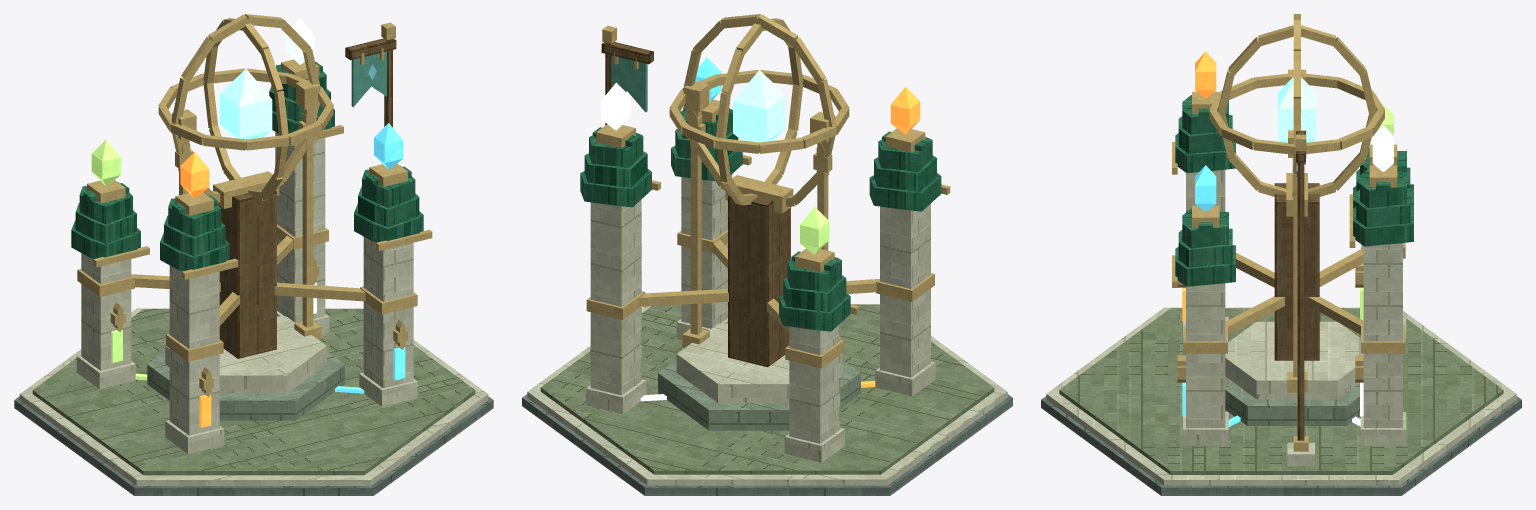
File: elf_elemental_ritual_hex_v1.glb
The picture shows the model from 3 angles, left to right: view 1: azimuth 30°, elevation 25°; view 2: azimuth 150°, elevation 25°; view 3: azimuth 270°, elevation 25°; orthographic projection. The views are drawn at different scales.
Parts seen in each view (by area): view 1: Elf_Elemental_Ritual_Hex_V1_Focus, Elf_Elemental_Ritual_Hex_V1_Foundation, Elf_Elemental_Ritual_Hex_V1_Hall, Elf_Elemental_Ritual_Hex_V1_Roofs, Elf_Elemental_Ritual_Hex_V1_Courtyard, Elf_Elemental_Ritual_Hex_V1_Faction, Elf_Elemental_Ritual_Hex_V1_Details; view 2: Elf_Elemental_Ritual_Hex_V1_Focus, Elf_Elemental_Ritual_Hex_V1_Foundation, Elf_Elemental_Ritual_Hex_V1_Hall, Elf_Elemental_Ritual_Hex_V1_Roofs, Elf_Elemental_Ritual_Hex_V1_Courtyard, Elf_Elemental_Ritual_Hex_V1_Faction; view 3: Elf_Elemental_Ritual_Hex_V1_Foundation, Elf_Elemental_Ritual_Hex_V1_Focus, Elf_Elemental_Ritual_Hex_V1_Hall, Elf_Elemental_Ritual_Hex_V1_Roofs, Elf_Elemental_Ritual_Hex_V1_Courtyard, Elf_Elemental_Ritual_Hex_V1_Faction, Elf_Elemental_Ritual_Hex_V1_Details.
Boxes of the visible parts, left/top/right/bottom form: Elf_Elemental_Ritual_Hex_V1_Focus: left=77, top=14, right=417, bottom=427; Elf_Elemental_Ritual_Hex_V1_Foundation: left=14, top=308, right=493, bottom=495; Elf_Elemental_Ritual_Hex_V1_Hall: left=76, top=132, right=417, bottom=453; Elf_Elemental_Ritual_Hex_V1_Roofs: left=71, top=61, right=432, bottom=279; Elf_Elemental_Ritual_Hex_V1_Courtyard: left=147, top=351, right=344, bottom=420; Elf_Elemental_Ritual_Hex_V1_Faction: left=345, top=22, right=396, bottom=127; Elf_Elemental_Ritual_Hex_V1_Details: left=110, top=257, right=407, bottom=396; Elf_Elemental_Ritual_Hex_V1_Focus: left=586, top=14, right=934, bottom=402; Elf_Elemental_Ritual_Hex_V1_Foundation: left=522, top=304, right=1012, bottom=495; Elf_Elemental_Ritual_Hex_V1_Hall: left=586, top=174, right=935, bottom=462; Elf_Elemental_Ritual_Hex_V1_Roofs: left=580, top=107, right=950, bottom=331; Elf_Elemental_Ritual_Hex_V1_Courtyard: left=658, top=359, right=860, bottom=430; Elf_Elemental_Ritual_Hex_V1_Faction: left=590, top=25, right=653, bottom=360; Elf_Elemental_Ritual_Hex_V1_Foundation: left=1041, top=307, right=1521, bottom=495; Elf_Elemental_Ritual_Hex_V1_Focus: left=1182, top=14, right=1405, bottom=416; Elf_Elemental_Ritual_Hex_V1_Hall: left=1183, top=169, right=1406, bottom=445; Elf_Elemental_Ritual_Hex_V1_Roofs: left=1172, top=95, right=1413, bottom=287; Elf_Elemental_Ritual_Hex_V1_Courtyard: left=1225, top=376, right=1359, bottom=425; Elf_Elemental_Ritual_Hex_V1_Faction: left=1287, top=131, right=1314, bottom=466; Elf_Elemental_Ritual_Hex_V1_Details: left=1177, top=263, right=1363, bottom=382.
Size of the model in its own units: 1.59 by 1.64 by 1.84.
Materials: 1 (1 with a texture image).
